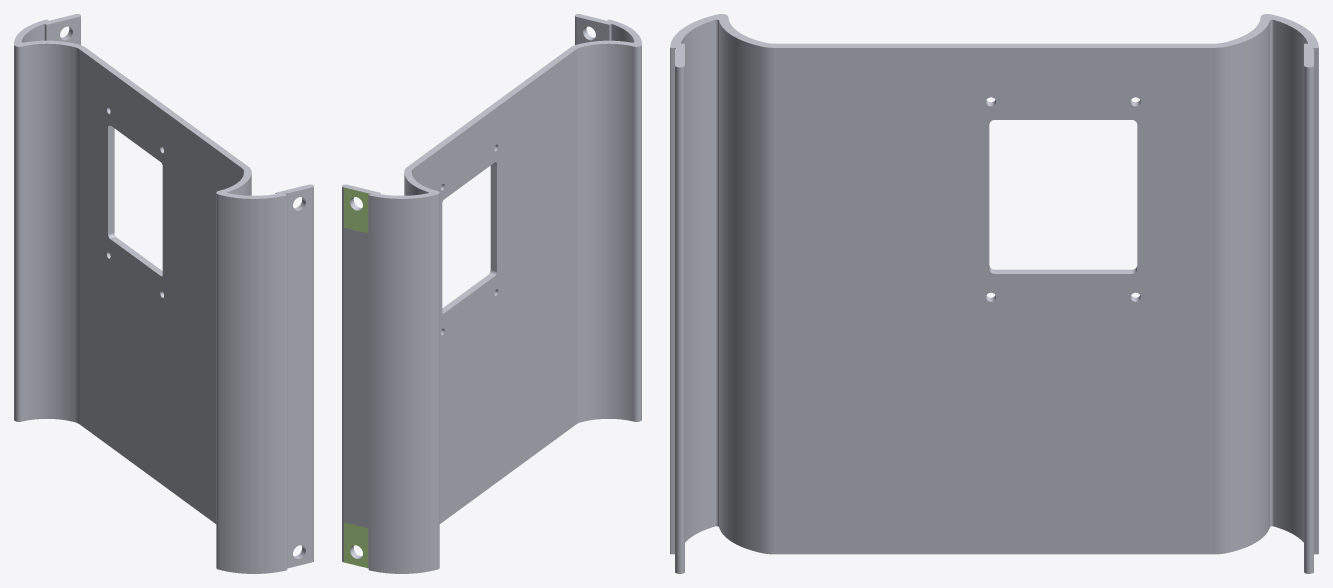
The model's file is P09121-092-209-RevA.gltf.
3 views of the same model, side by side, from view 1: azimuth 30°, elevation 25°; view 2: azimuth 150°, elevation 25°; view 3: azimuth 270°, elevation 25° (orthographic). The views are drawn at different scales.
Parts seen in each view (by area): view 1: Node1; view 2: Node1, Node2; view 3: Node1.
Boxes of the visible parts, x1=… form: Node1: x1=14, y1=14, x2=313, y2=573; Node1: x1=342, y1=14, x2=641, y2=573; Node2: x1=344, y1=187, x2=368, y2=568; Node1: x1=670, y1=14, x2=1318, y2=573.
Size of the model in its own units: 40.24 by 178 by 206.
